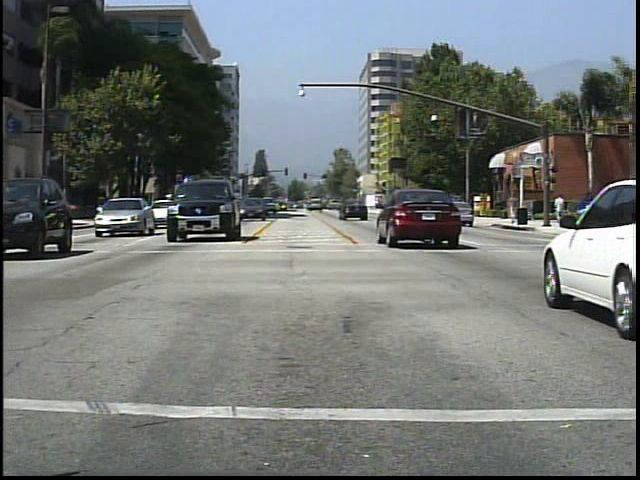person: (507, 190, 520, 226), (554, 192, 570, 216)
